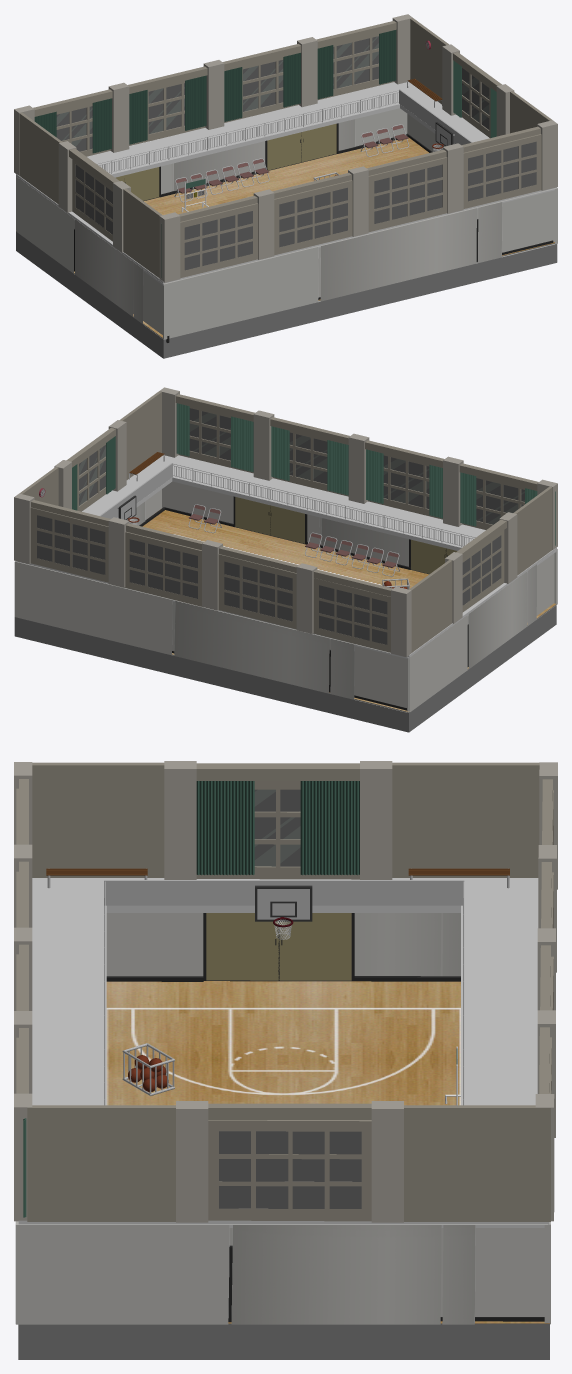
File: basketball 11court.fbx
The picture shows the model from 3 angles, top to bottom: view 1: azimuth 30°, elevation 25°; view 2: azimuth 150°, elevation 25°; view 3: azimuth 270°, elevation 25°; orthographic projection. The views are drawn at different scales.
Parts seen in each view (by area): view 1: Cube.004, Cube, Cube.007, Cube.029, Cube.003, Cube.039, Cube.023, Cube.055, Cube.012, Cube.018, Cube.036, Cube.060 (+48 smaller); view 2: Cube.003, Cube, Cube.007, Cube.029, Cube.004, Cube.023, Cube.039, Cube.055, Cube.059, Cube.019, Cube.044, Cube.038 (+48 smaller); view 3: Cube, Cube.027, Cube.007, Cube.063, Cube.070, Cube.055, Cube.062, Cube.029, Cube.079, Cube.068, Cube.069, Cube.008 (+26 smaller).
Part boxes in pixels (<box>): Cube.004: <box>163,188,557,339</box>; Cube: <box>16,137,557,358</box>; Cube.007: <box>16,82,556,285</box>; Cube.029: <box>16,176,164,339</box>; Cube.003: <box>16,108,407,229</box>; Cube.039: <box>33,21,396,116</box>; Cube.023: <box>178,126,540,221</box>; Cube.055: <box>19,112,62,204</box>; Cube.012: <box>468,141,536,201</box>; Cube.018: <box>279,187,347,247</box>; Cube.036: <box>374,164,442,223</box>; Cube.060: <box>184,211,252,270</box>; Cube.003: <box>14,561,409,712</box>; Cube: <box>14,509,556,732</box>; Cube.007: <box>15,455,556,659</box>; Cube.029: <box>407,548,557,712</box>; Cube.004: <box>162,481,557,604</box>; Cube.023: <box>175,394,538,490</box>; Cube.039: <box>31,500,392,596</box>; Cube.055: <box>409,560,452,652</box>; Cube.059: <box>37,515,105,574</box>; Cube.019: <box>319,585,387,644</box>; Cube.044: <box>129,539,197,598</box>; Cube.038: <box>224,561,292,621</box>; Cube: <box>18,981,549,1359</box>; Cube.027: <box>16,1224,547,1324</box>; Cube.007: <box>18,878,549,1227</box>; Cube.063: <box>27,1105,175,1221</box>; Cube.070: <box>404,1105,550,1221</box>; Cube.055: <box>392,762,539,877</box>; Cube.062: <box>32,762,164,877</box>; Cube.029: <box>106,913,460,976</box>; Cube.079: <box>203,913,354,981</box>; Cube.068: <box>219,1131,361,1208</box>; Cube.069: <box>208,1120,371,1221</box>; Cube.008: <box>104,880,464,905</box>.
Bounding box in the file's own units: 65467 × 22080 × 43208.
